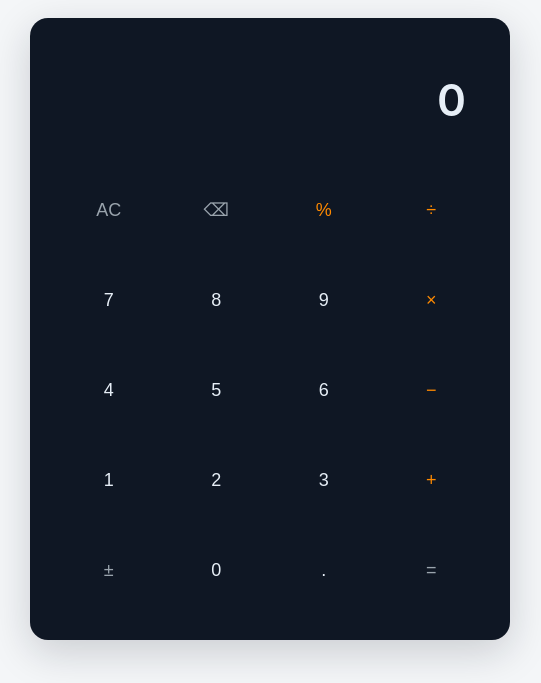
Test case: App › should display history for operations
Click the button "5": click(216, 390) [178,352,254,428]
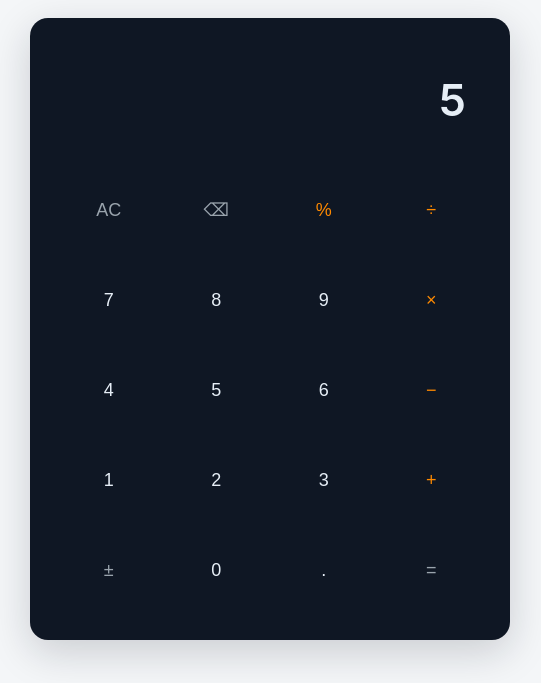
Click the button "+": click(431, 480) [393,442,469,518]
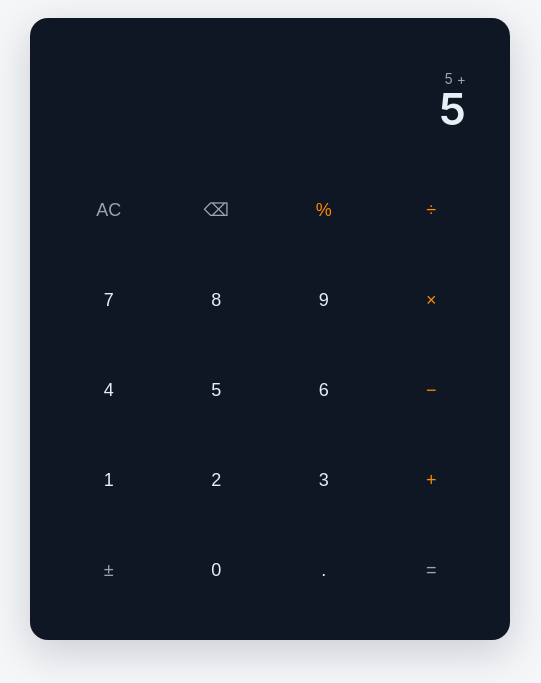
Now the text "5" is shown, box [439,86,466,130]
Now the text "5 +" is shown, box [444,70,466,86]
